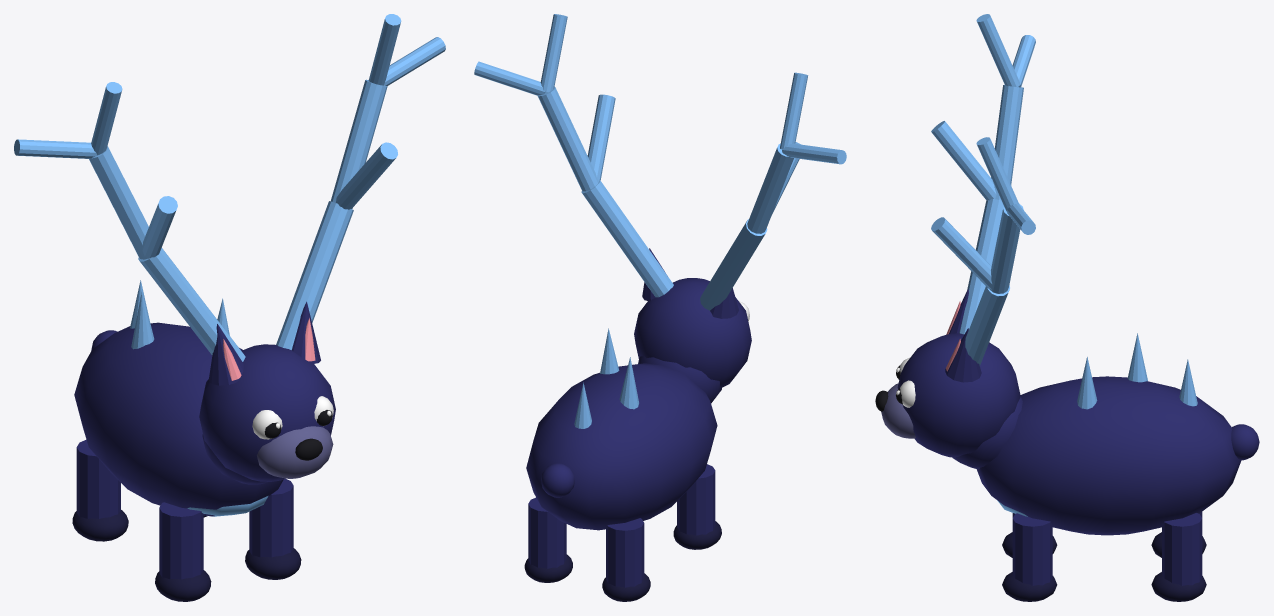
3 views of the same model, side by side, from view 1: azimuth 30°, elevation 25°; view 2: azimuth 150°, elevation 25°; view 3: azimuth 270°, elevation 25° (orthographic). The views are drawn at different scales.
Parts seen in each view (by area): view 1: Galaxy Stag; view 2: Galaxy Stag; view 3: Galaxy Stag.
Part boxes in pixels (box(x1,y1,x2,y2)): Galaxy Stag: box(14, 14, 445, 601); Galaxy Stag: box(474, 14, 846, 601); Galaxy Stag: box(875, 14, 1259, 601).
Size of the model in its own units: 4.44 by 5.5 by 3.82.
Materials: 1 (1 with a texture image).
